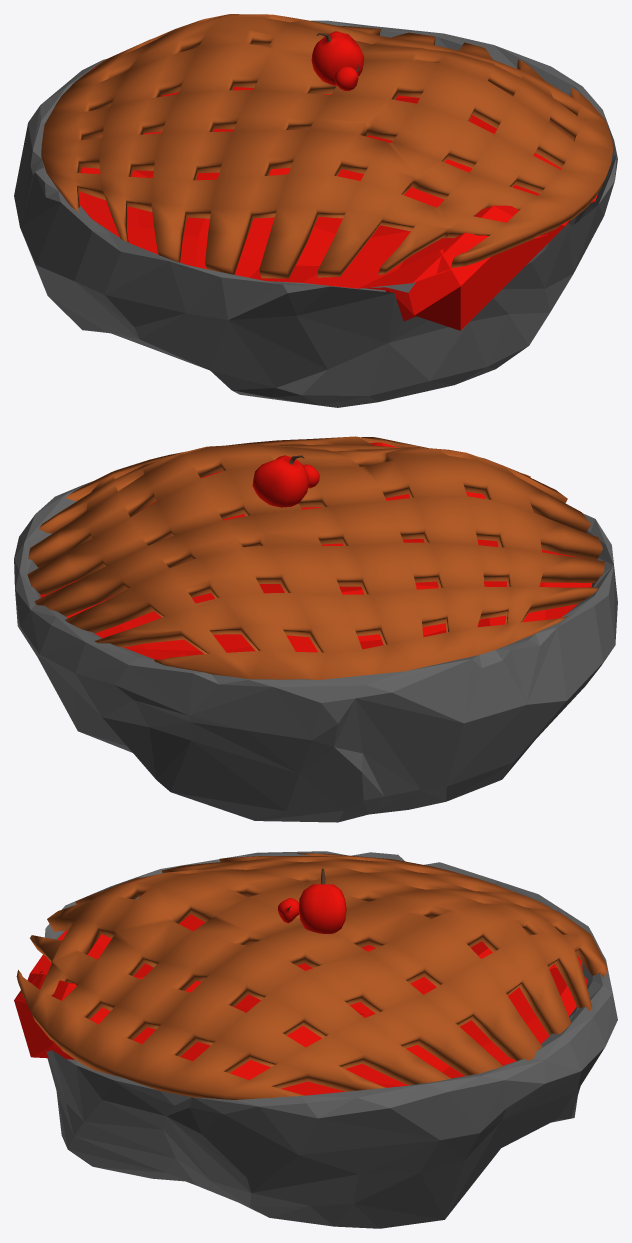
The model's file is pie.fbx.
3 renders of one model, top to bottom at view 1: azimuth 30°, elevation 25°; view 2: azimuth 150°, elevation 25°; view 3: azimuth 270°, elevation 25°, orthographic.
Visible parts, largest first — view 1: Pie; view 2: Pie; view 3: Pie.
Part boxes in pixels (left/top/right/bottom): Pie: left=14, top=14, right=617, bottom=407; Pie: left=14, top=436, right=617, bottom=822; Pie: left=14, top=851, right=617, bottom=1228.
Size of the model in its own units: 143 by 78.01 by 140.
